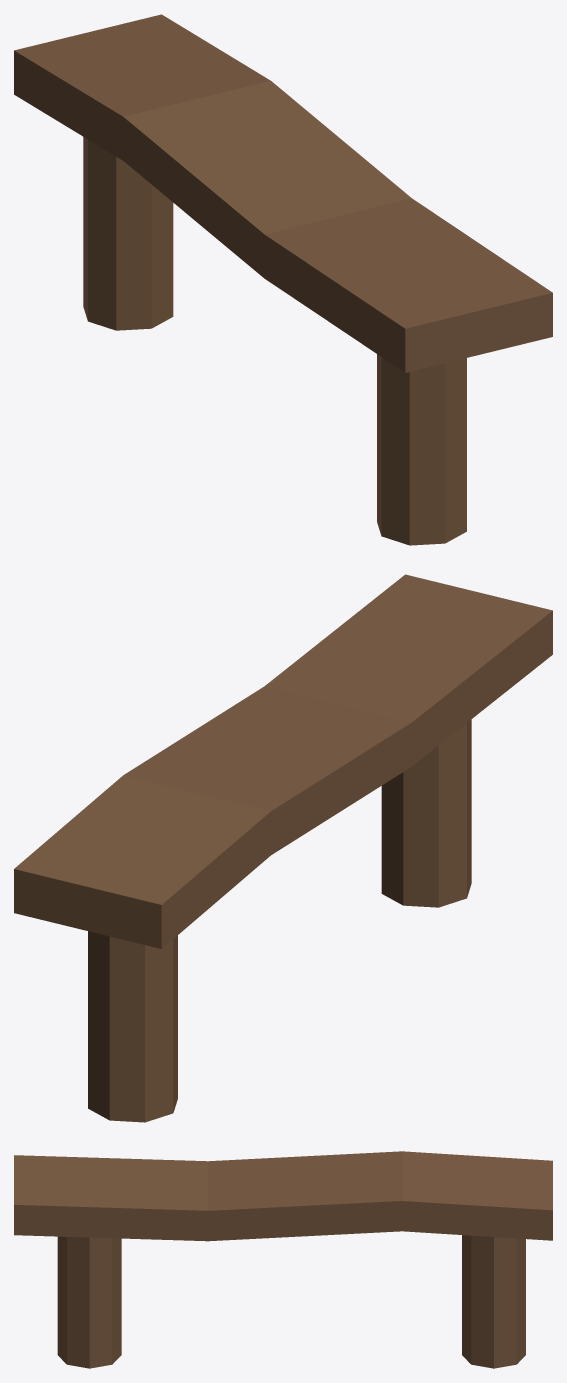
File: bench.fbx
The picture shows the model from 3 angles, top to bottom: view 1: azimuth 30°, elevation 25°; view 2: azimuth 150°, elevation 25°; view 3: azimuth 270°, elevation 25°; orthographic projection. The views are drawn at different scales.
Parts seen in each view (by area): view 1: Bench; view 2: Bench; view 3: Bench.
Boxes of the visible parts, left/top/right/bottom form: Bench: left=14, top=14, right=552, bottom=545; Bench: left=14, top=574, right=552, bottom=1122; Bench: left=14, top=1151, right=552, bottom=1368.
Size of the model in its own units: 37.29 by 62.96 by 171.
